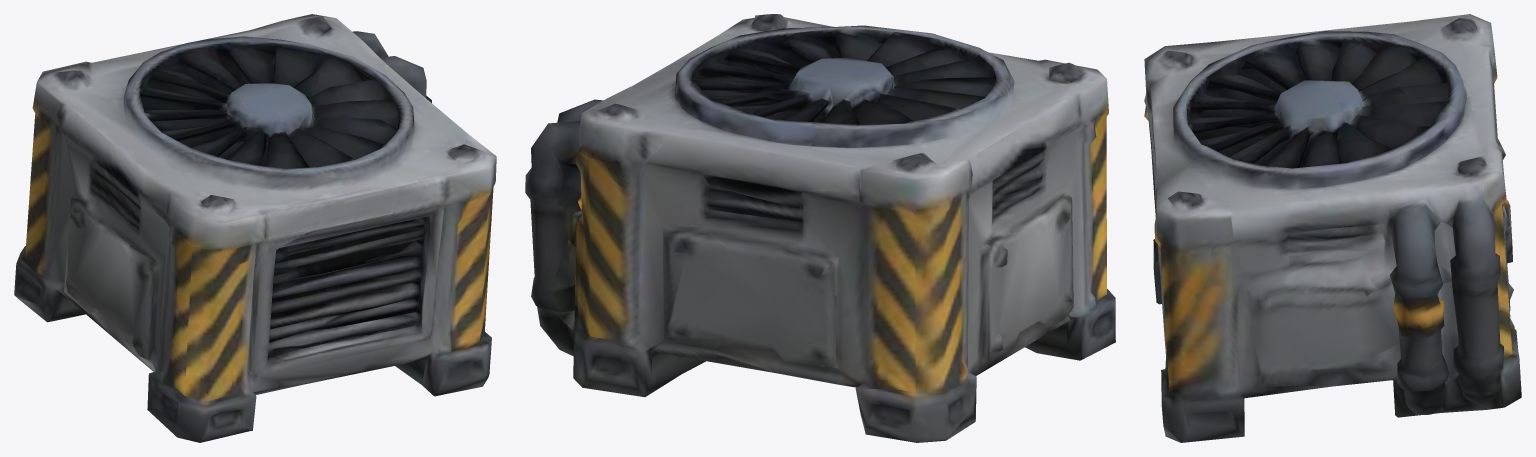
Rendered from env-vent.glb.
The picture shows the model from 3 angles, left to right: view 1: azimuth 30°, elevation 25°; view 2: azimuth 150°, elevation 25°; view 3: azimuth 270°, elevation 25°; orthographic projection. The views are drawn at different scales.
Visible parts, largest first — view 1: env-vent; view 2: env-vent; view 3: env-vent.
Boxes of the visible parts, box(x1,y1,x2,y2) form: env-vent: box(14, 14, 496, 442); env-vent: box(525, 14, 1115, 442); env-vent: box(1144, 14, 1521, 442).
Size of the model in its own units: 3.46 by 2.4 by 2.91.
1 material, 1 textured.
